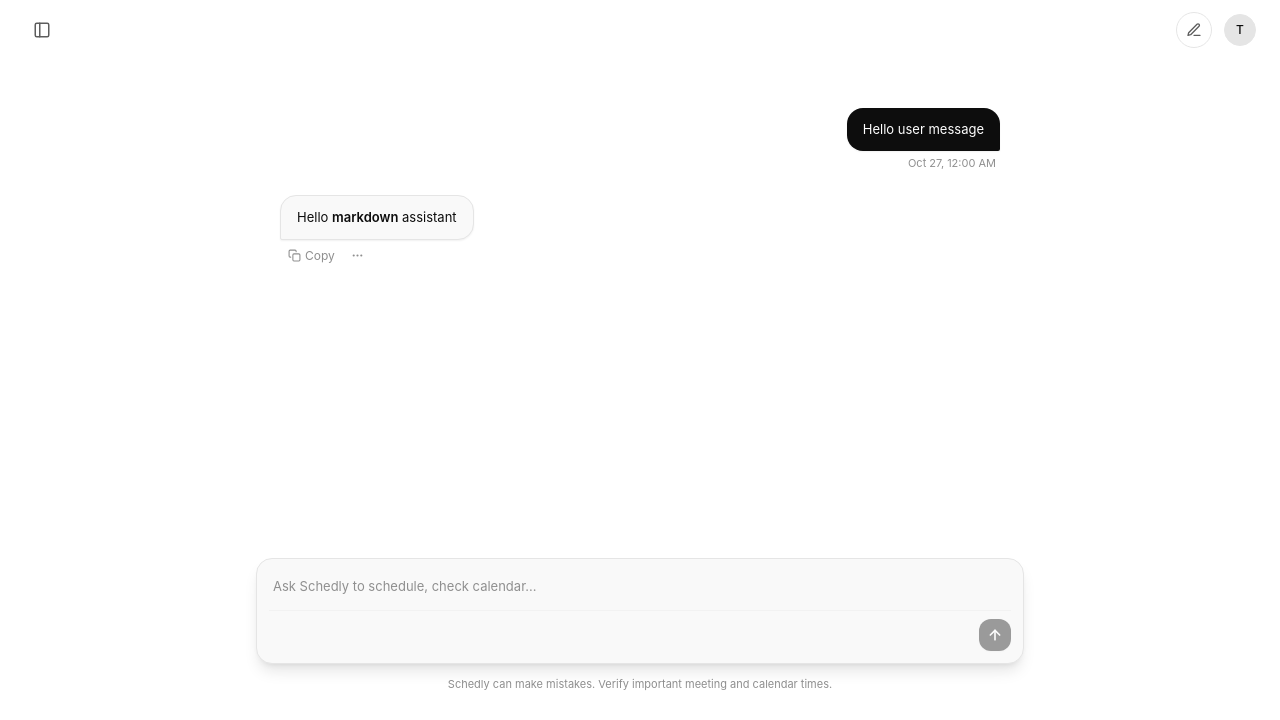
Test: ChatDetailClient component › textarea sends on Enter without Shift
The image size is (1280, 720).
Step 1. Type "Schedule meeting" into the text box with placeholder "Ask Schedly to schedule, check calendar..." → (640, 586), box [269,570,1011,602]
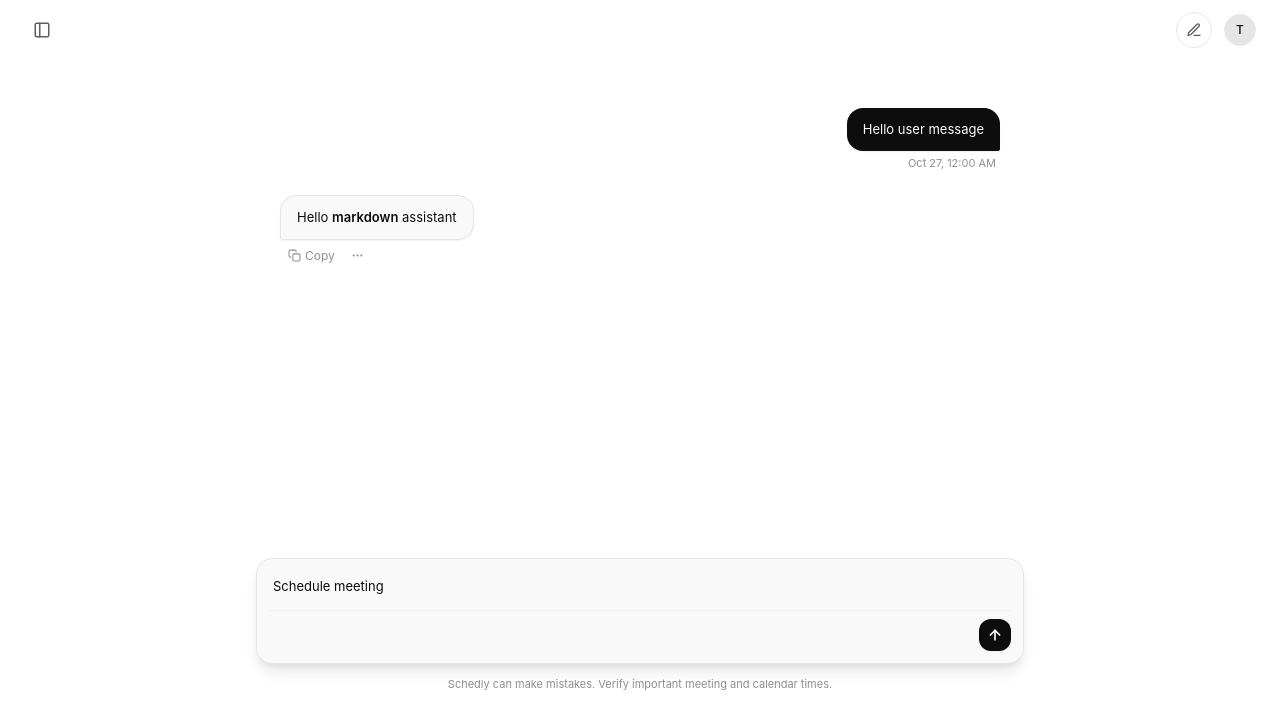
Step 2. Press Enter in the text box with placeholder "Ask Schedly to schedule, check calendar...", box [269,570,1011,602]
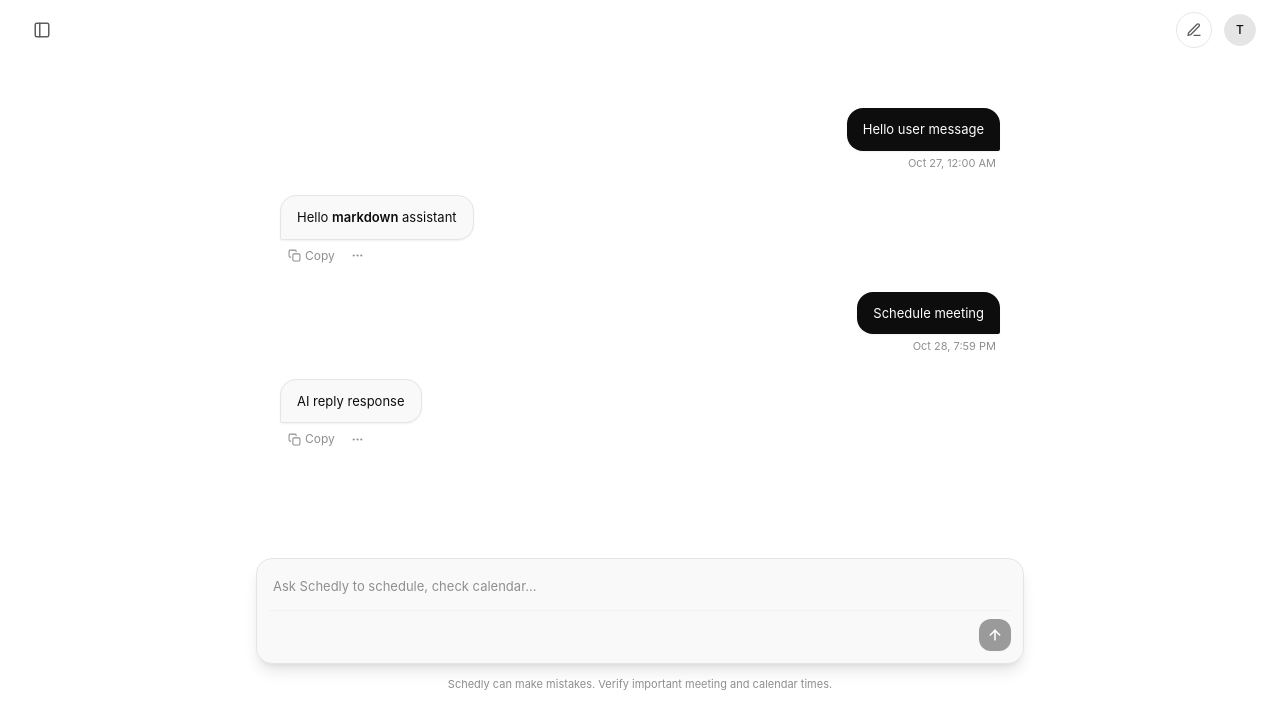
Check: the text "Schedule meeting" is shown, box [873,304,984,322]
